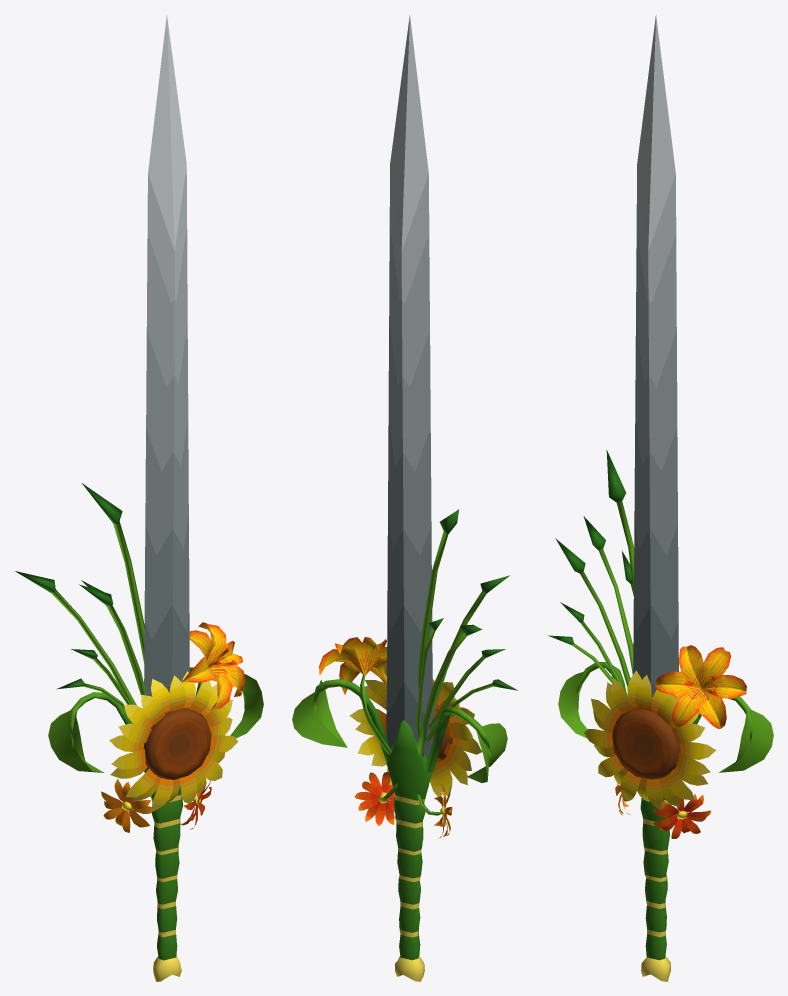
Rendered from 9-Floral.glb.
3 views of the same model, side by side, from view 1: azimuth 30°, elevation 25°; view 2: azimuth 150°, elevation 25°; view 3: azimuth 330°, elevation 25° (orthographic).
Visible parts, largest first — view 1: s; view 2: s; view 3: s.
Part boxes in pixels (left/top/right/bottom): s: left=15, top=15, right=263, bottom=981; s: left=292, top=15, right=517, bottom=981; s: left=548, top=15, right=773, bottom=981.
Size of the model in its own units: 0.3662 by 1.61 by 0.1752.
Materials: 1 (1 with a texture image).
